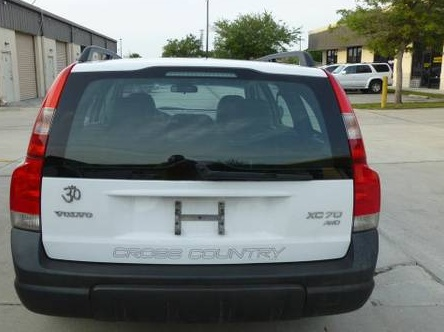volvo: (2, 39, 410, 328)
